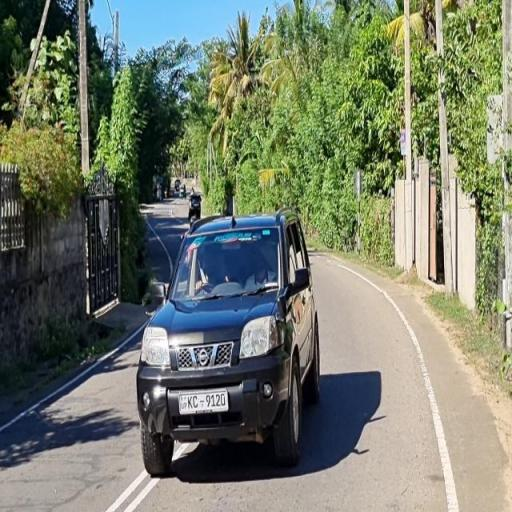double_white_line: (0, 326, 147, 428), (104, 470, 149, 511)
